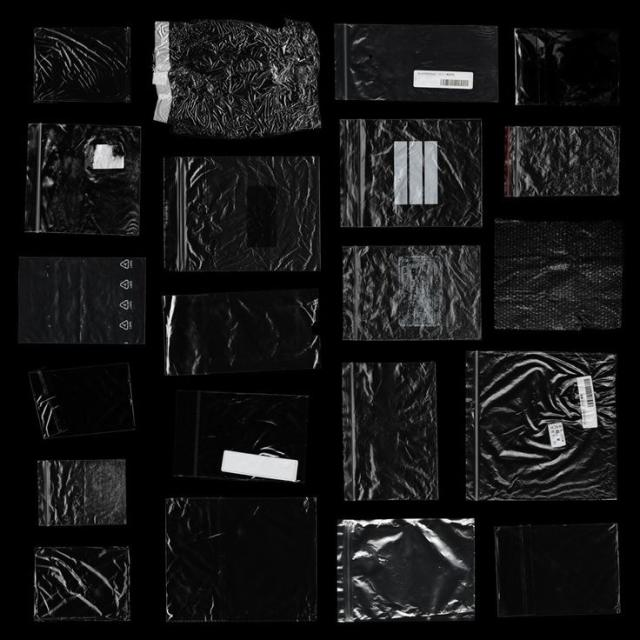Single-layer Plastic: (466, 352, 616, 500), (154, 19, 320, 138), (168, 498, 316, 622), (165, 156, 320, 271), (340, 119, 481, 226), (494, 221, 621, 329), (339, 519, 473, 621), (342, 362, 438, 501), (163, 289, 318, 374), (25, 122, 140, 234), (344, 246, 481, 340), (335, 26, 499, 102), (174, 391, 309, 481), (495, 524, 620, 616), (19, 258, 144, 344), (516, 29, 619, 106), (506, 126, 619, 196), (29, 364, 135, 438), (35, 26, 130, 102), (35, 546, 130, 621), (38, 459, 126, 526)
